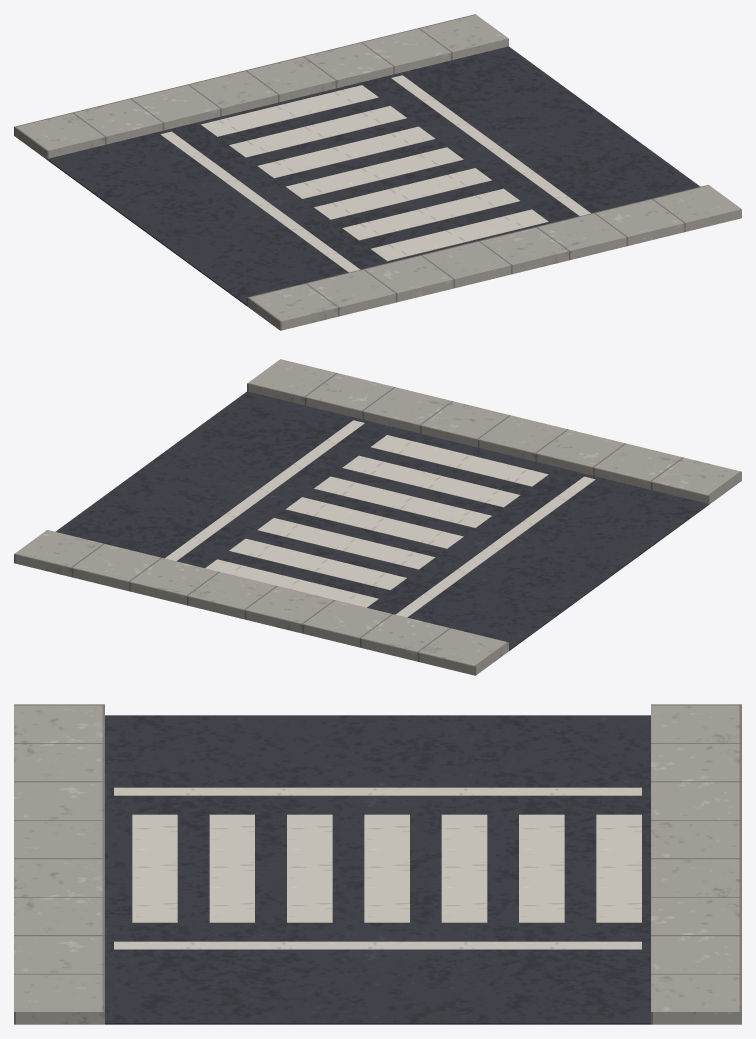
The model's file is road_crosswalk.glb.
3 views of the same model, one above another, from view 1: azimuth 30°, elevation 25°; view 2: azimuth 150°, elevation 25°; view 3: azimuth 270°, elevation 25° (orthographic). The views are drawn at different scales.
Visible parts, largest first — view 1: Ground; view 2: Ground; view 3: Ground.
Boxes of the visible parts, <box> form: Ground: <box>14,14,741,330</box>; Ground: <box>14,359,741,675</box>; Ground: <box>14,704,741,1024</box>.
Size of the model in its own units: 8 by 0.15 by 8.
3 materials, 3 textured.
